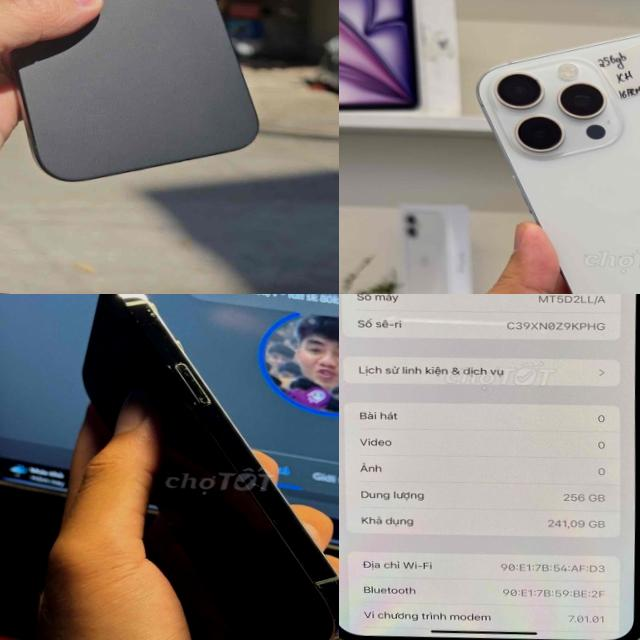scratch: (114, 294, 229, 422), (236, 461, 324, 570)
